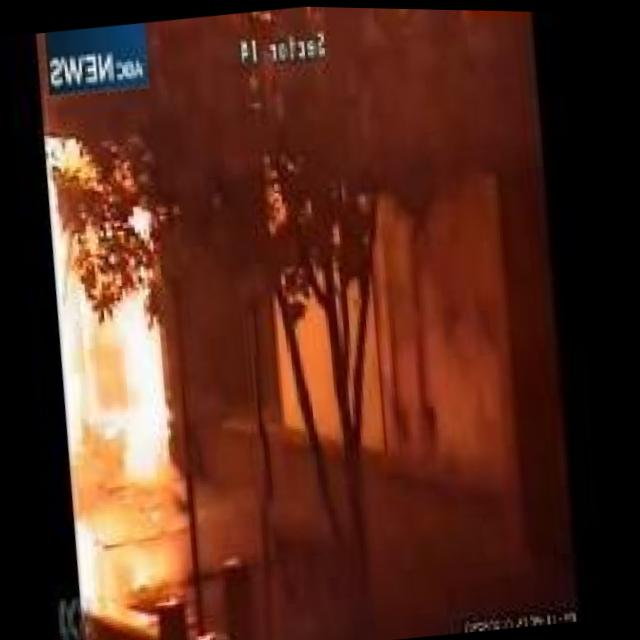fire: (28, 113, 202, 507), (67, 516, 116, 612)
